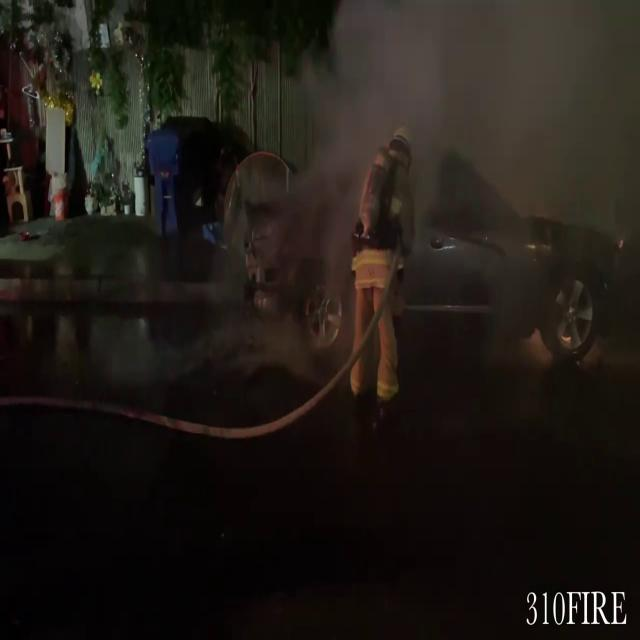Smoke: (281, 0, 640, 226)
